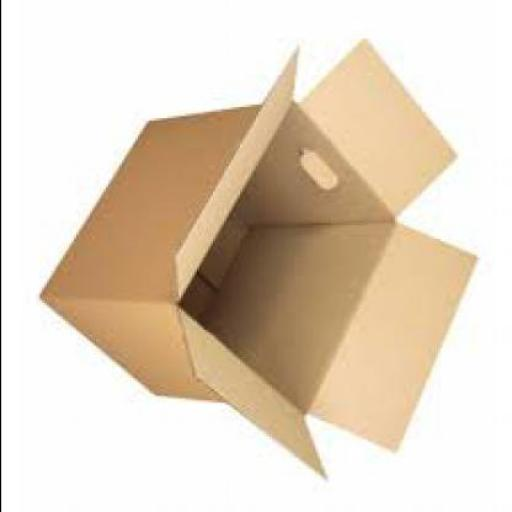cardboard: (41, 41, 478, 482)
